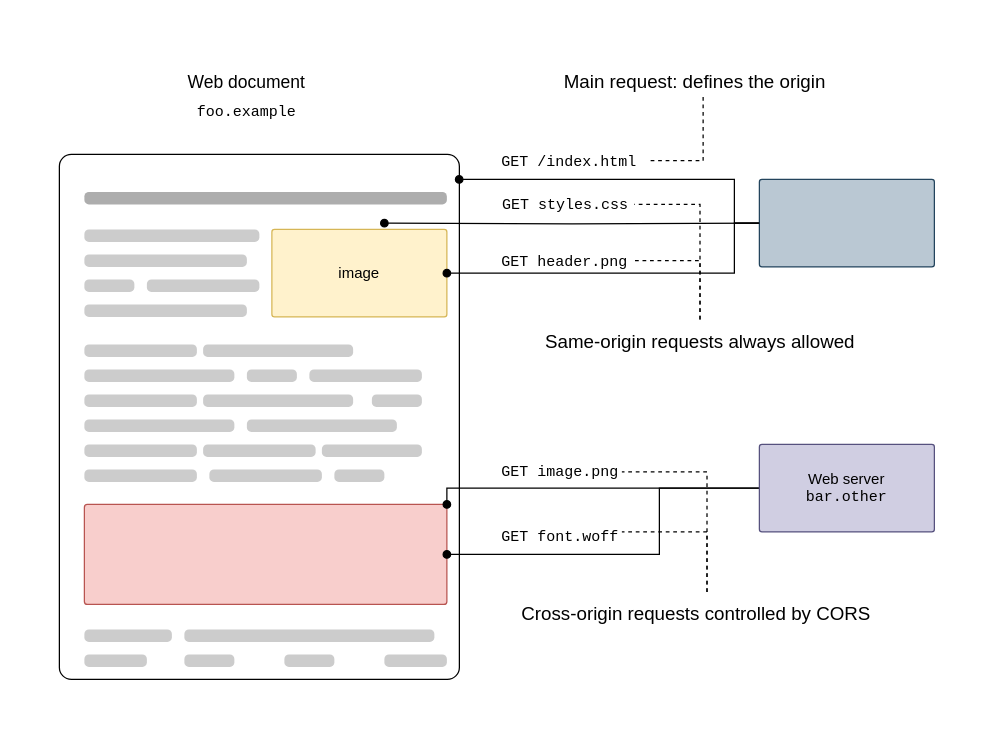
Image size: 993x755. Some labels were removed from this diagram. The centre of each missing label's shape, as x and y in pixels:
"Canvas with font and image from bar.other" goes at point 265,553.
"Web server foo.example" goes at point 846,222.
